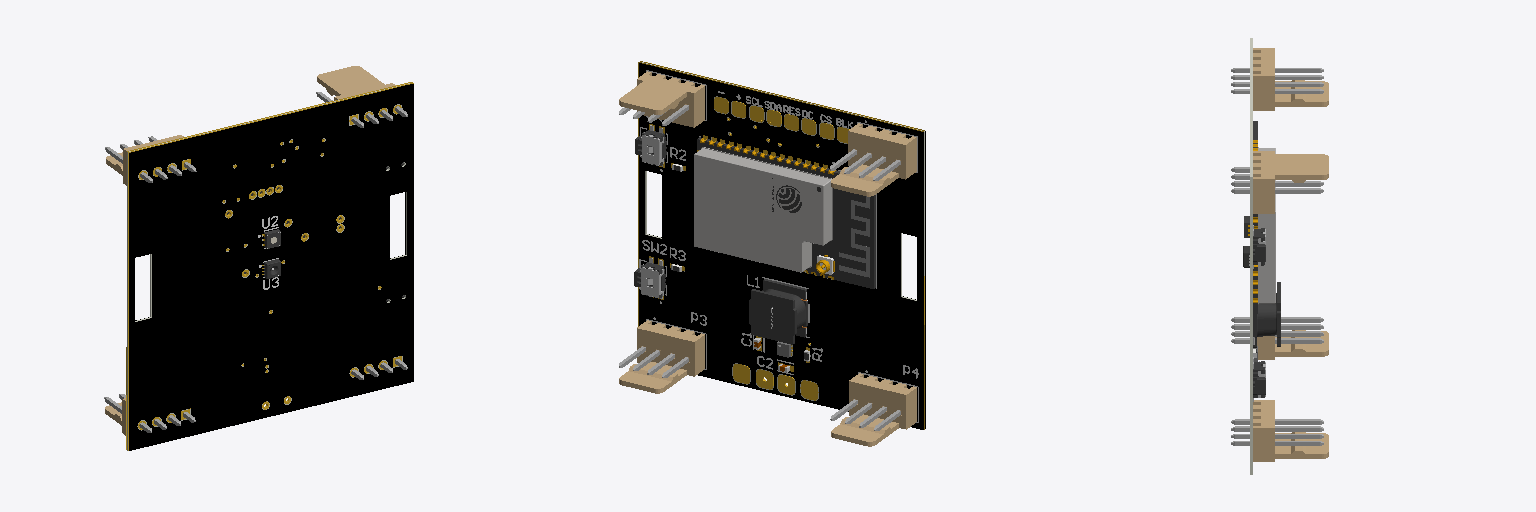
File: PCB1.obj
The picture shows the model from 3 angles: view 1: azimuth 30°, elevation 25°; view 2: azimuth 150°, elevation 25°; view 3: azimuth 270°, elevation 25°; orthographic projection.
Parts seen in each view (by area): view 1: Solder_Top, ComponentBody.10, Core, VDD, ComponentBody.7, ComponentBody.8; view 2: Solder_Bottom, ComponentBody.22, ComponentBody.21, ComponentBody.8, ComponentBody.18, ComponentBody.20, ComponentBody.28, ComponentBody.10, Bottom, GND, Core, ComponentBody.24 (+6 smaller); view 3: ComponentBody.10, ComponentBody.8, ComponentBody.20, ComponentBody.19, ComponentBody.17, ComponentBody.22, ComponentBody.7, Core, ComponentBody.18, ComponentBody.28, ComponentBody.9.
Boxes of the visible parts, <box> form: Solder_Top: <box>129,84,413,450</box>; ComponentBody.10: <box>317,66,395,100</box>; Core: <box>127,83,409,450</box>; VDD: <box>128,83,413,450</box>; ComponentBody.7: <box>105,136,196,182</box>; ComponentBody.8: <box>106,135,183,185</box>; Solder_Bottom: <box>639,63,923,429</box>; ComponentBody.22: <box>694,147,832,272</box>; ComponentBody.21: <box>697,137,875,288</box>; ComponentBody.8: <box>831,123,916,196</box>; ComponentBody.18: <box>831,373,916,446</box>; ComponentBody.20: <box>619,320,704,393</box>; ComponentBody.28: <box>749,279,807,344</box>; ComponentBody.10: <box>619,71,704,127</box>; Bottom: <box>639,70,918,422</box>; GND: <box>638,62,924,429</box>; Core: <box>642,62,924,400</box>; ComponentBody.24: <box>839,196,869,277</box>; ComponentBody.10: <box>1253,151,1328,213</box>; ComponentBody.8: <box>1253,48,1328,110</box>; ComponentBody.20: <box>1253,400,1328,461</box>; ComponentBody.19: <box>1231,419,1323,445</box>; ComponentBody.17: <box>1231,317,1323,343</box>; ComponentBody.22: <box>1258,147,1275,304</box>; ComponentBody.7: <box>1231,68,1323,93</box>; Core: <box>1250,38,1252,474</box>; ComponentBody.18: <box>1257,330,1328,359</box>; ComponentBody.28: <box>1253,282,1280,347</box>; ComponentBody.9: <box>1231,167,1323,193</box>.
Bounding box in the file's own units: 5.03 × 5.02 × 1.49.